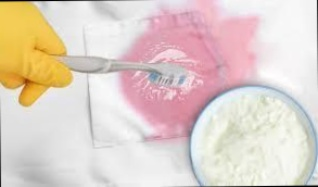wine: (142, 12, 255, 75), (118, 87, 188, 136), (116, 37, 152, 59), (196, 72, 216, 95), (123, 81, 130, 91)
